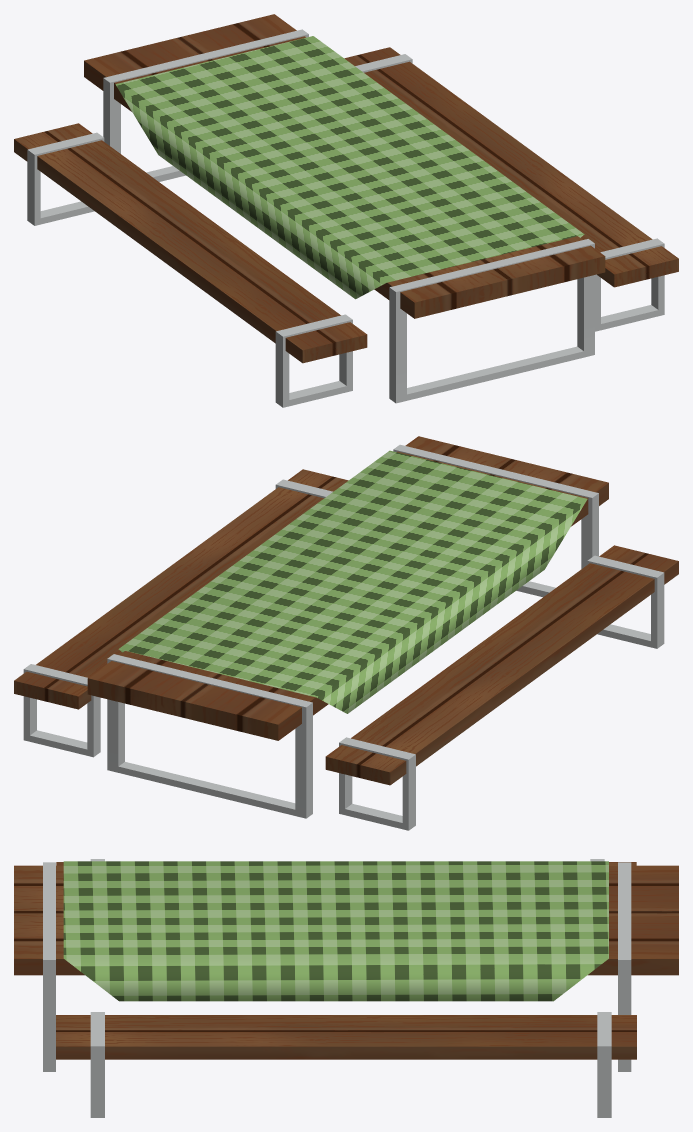
Rendered from Table_Dinner.optimized.glb.
The picture shows the model from 3 angles, top to bottom: view 1: azimuth 30°, elevation 25°; view 2: azimuth 150°, elevation 25°; view 3: azimuth 270°, elevation 25°; orthographic projection.
Parts seen in each view (by area): view 1: Table_Dinner; view 2: Table_Dinner; view 3: Table_Dinner.
Boxes of the visible parts, left/top/right/bottom form: Table_Dinner: left=14, top=14, right=678, bottom=407; Table_Dinner: left=14, top=436, right=678, bottom=830; Table_Dinner: left=14, top=859, right=678, bottom=1117.
Size of what is drawn, in the model's own units: 3.58 by 1.01 by 5.37.
Materials: 3 (3 with a texture image).
